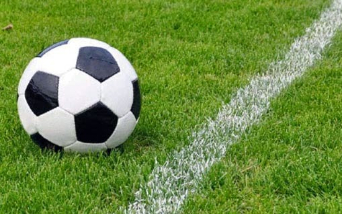ball: (12, 32, 157, 156)
